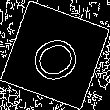O_NE: (22, 25, 88, 85)
